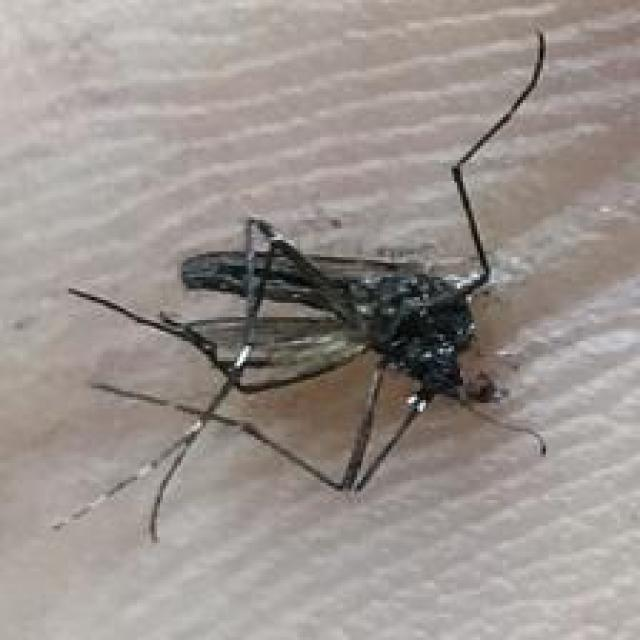Aedes albopictus: (50, 26, 556, 546)
